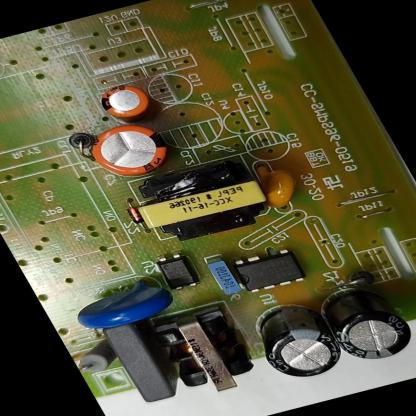Cap1: (72, 110, 188, 188)
Cap2: (90, 75, 166, 128)
Cap3: (233, 294, 361, 388)
Cap4: (302, 271, 416, 372)
MOSFET: (224, 242, 314, 298)
Mov: (60, 268, 186, 340)
Resistor: (65, 335, 127, 377)
Transformer: (119, 151, 286, 252), (128, 299, 272, 410)
